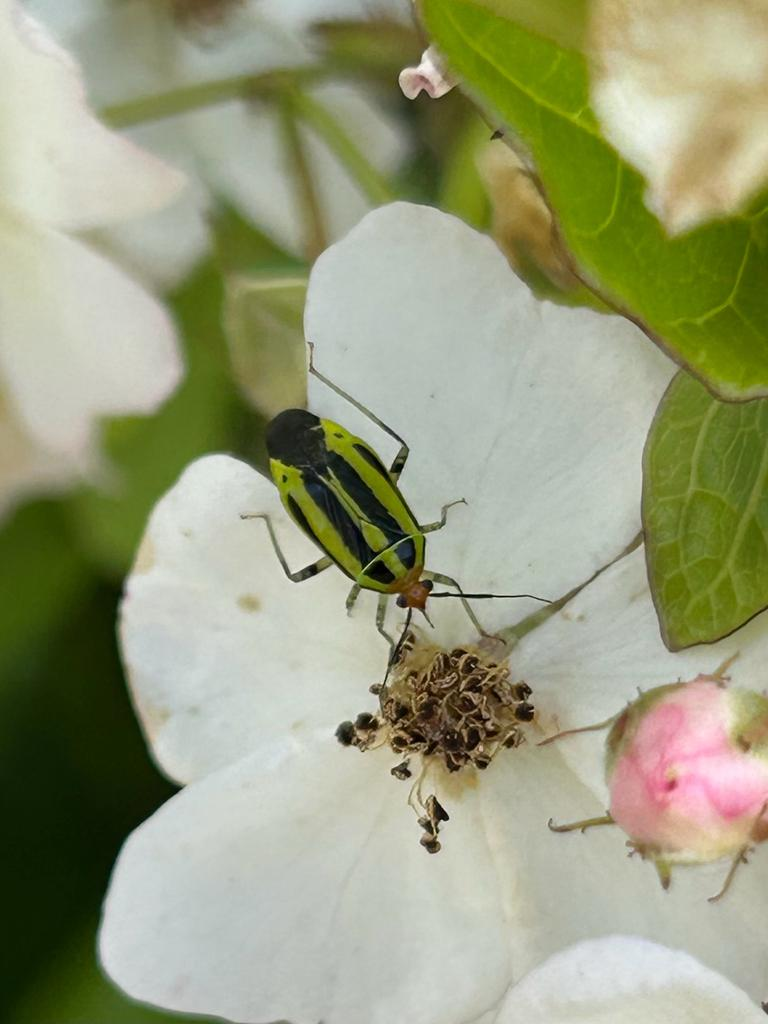plant_bugs: (194, 311, 590, 741)
